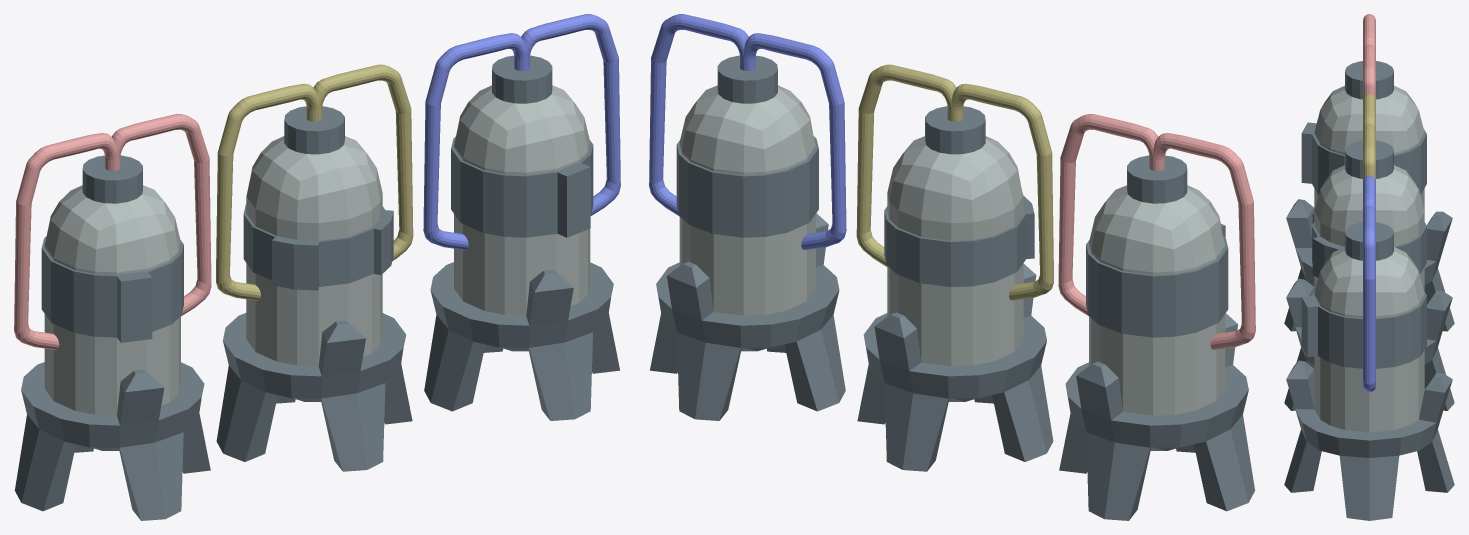
File: Tanks_3 2.fbx
3 renders of one model, left to right at view 1: azimuth 30°, elevation 25°; view 2: azimuth 150°, elevation 25°; view 3: azimuth 270°, elevation 25°, orthographic. The views are drawn at different scales.
Parts seen in each view (by area): view 1: ReservoirTank.001, ReservoirTank, ReservoirTank.002; view 2: ReservoirTank.001, ReservoirTank.002, ReservoirTank; view 3: ReservoirTank, ReservoirTank.002, ReservoirTank.001.
Boxes of the visible parts, left/top/right/bottom form: ReservoirTank.001: left=216, top=64, right=413, bottom=471; ReservoirTank: left=423, top=14, right=620, bottom=420; ReservoirTank.002: left=14, top=114, right=211, bottom=520; ReservoirTank.001: left=856, top=64, right=1053, bottom=471; ReservoirTank.002: left=1058, top=114, right=1255, bottom=520; ReservoirTank: left=649, top=14, right=846, bottom=420; ReservoirTank: left=1284, top=175, right=1454, bottom=520; ReservoirTank.002: left=1284, top=14, right=1454, bottom=331; ReservoirTank.001: left=1284, top=93, right=1454, bottom=410.
Size of the model in its own units: 1348 by 747 by 408.
